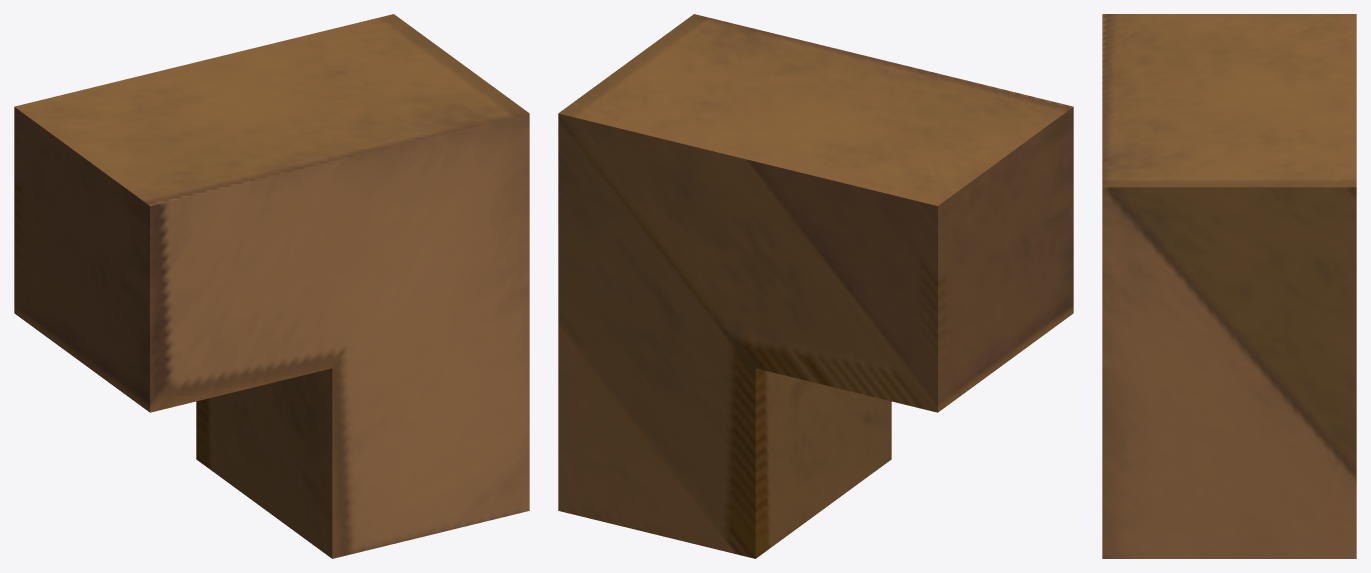
Rendered from pz_counter_trailer_wall_corner.obj.
The picture shows the model from 3 angles, left to right: view 1: azimuth 30°, elevation 25°; view 2: azimuth 150°, elevation 25°; view 3: azimuth 270°, elevation 25°; orthographic projection. The views are drawn at different scales.
Parts seen in each view (by area): view 1: pz_counter_trailer_wall_corner; view 2: pz_counter_trailer_wall_corner; view 3: pz_counter_trailer_wall_corner.
Part boxes in pixels (<box>): pz_counter_trailer_wall_corner: <box>14,14,529,558</box>; pz_counter_trailer_wall_corner: <box>558,14,1073,558</box>; pz_counter_trailer_wall_corner: <box>1102,14,1356,558</box>.
Size of the model in its own units: 1 by 1 by 0.62.
Materials: 1 (1 with a texture image).
